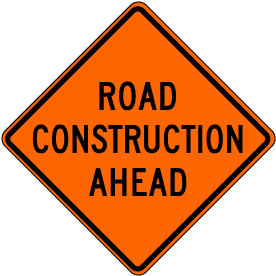Road_workahead: (3, 2, 276, 275)
